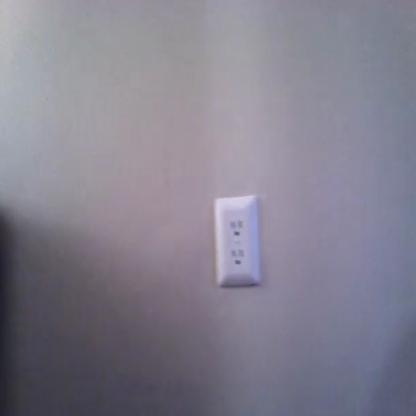OUTLET: (214, 196, 258, 284)
